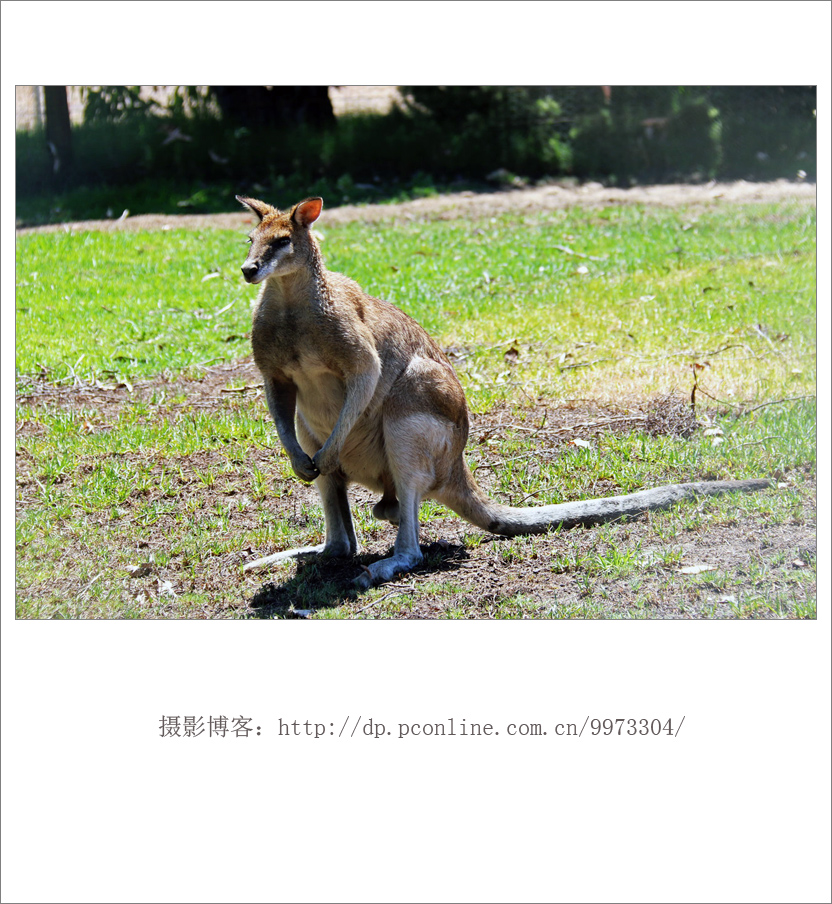kangaroo: (220, 186, 786, 600)
